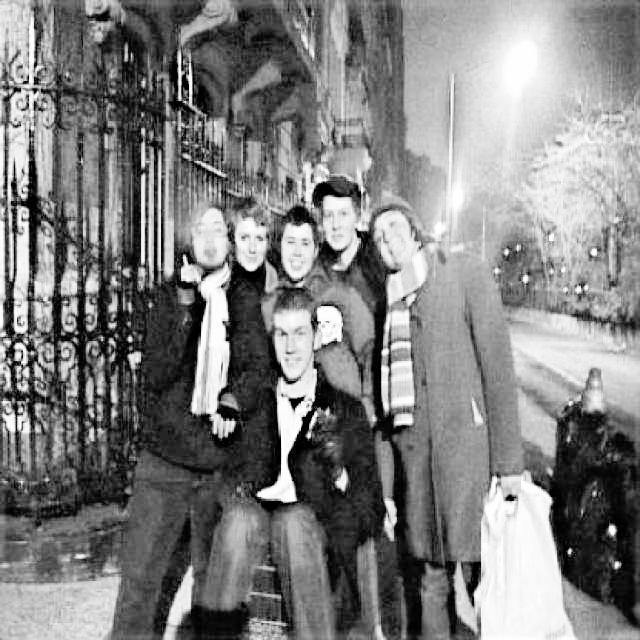Person: (105, 191, 274, 640), (368, 191, 530, 640), (200, 281, 383, 640), (311, 171, 384, 286), (228, 197, 281, 299), (275, 207, 329, 296)
